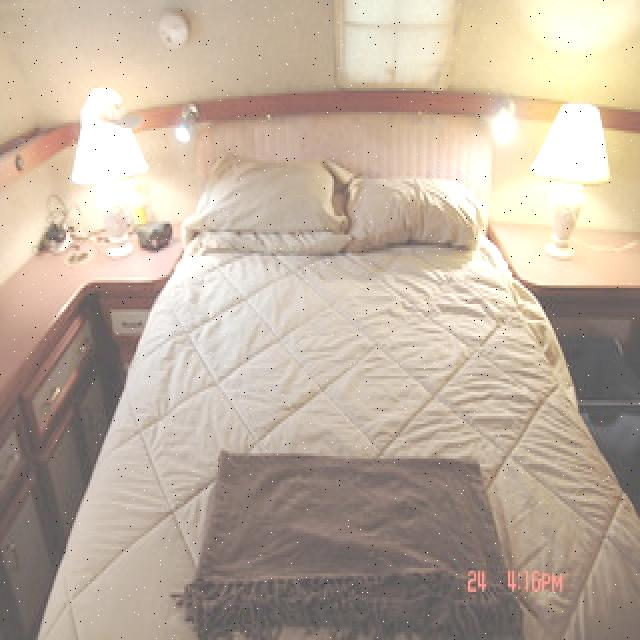bed: (43, 145, 640, 640)
